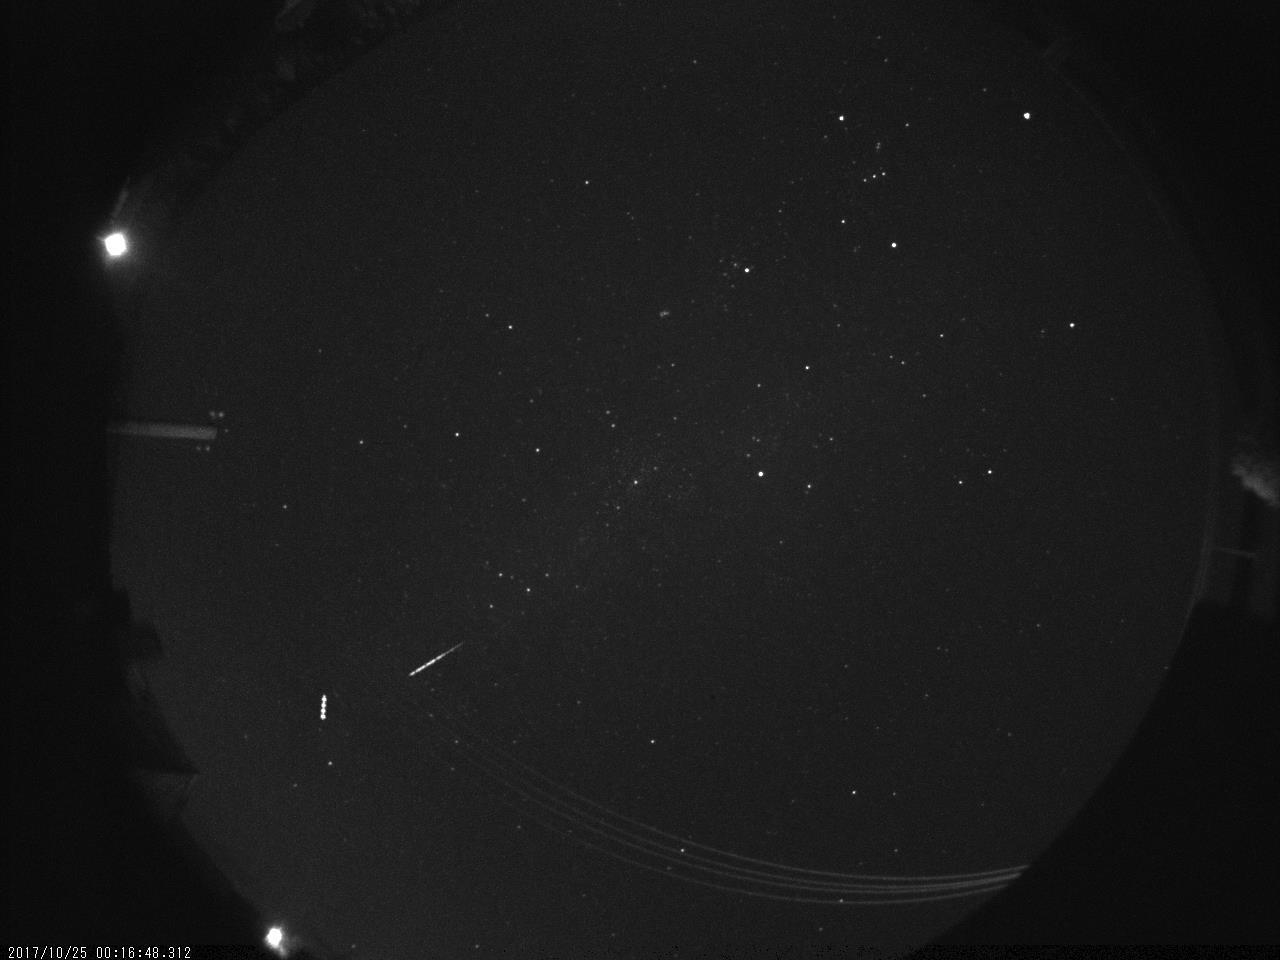Meteor: (402, 637, 470, 681)
